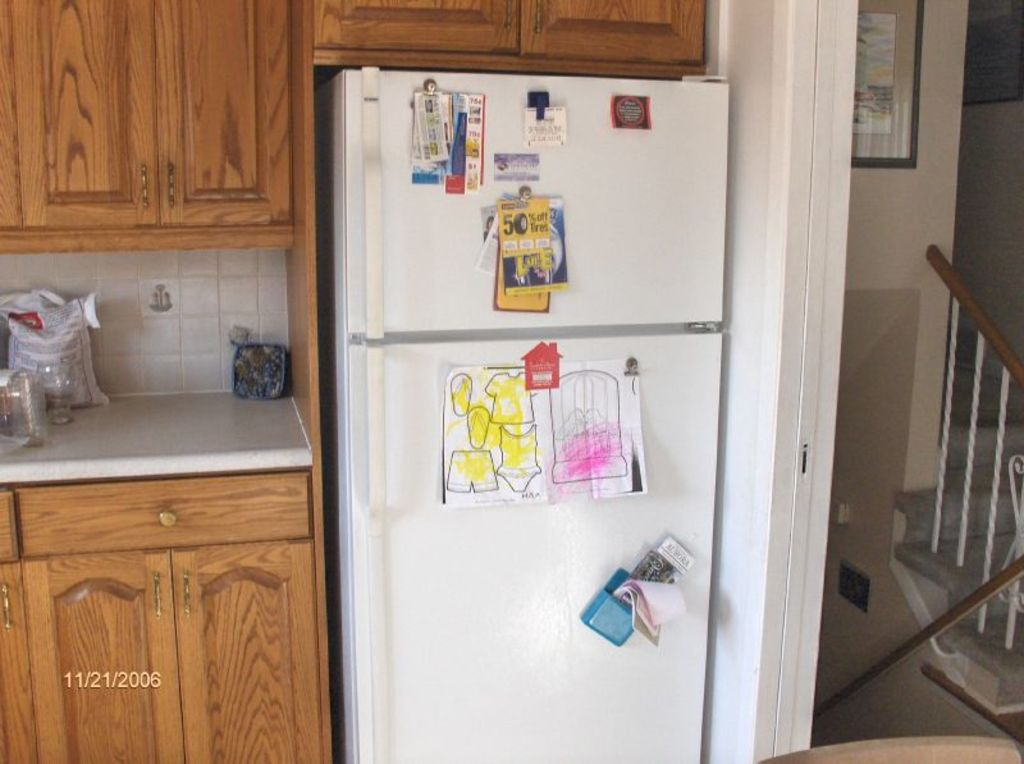cabinet door: (18, 7, 158, 225), (161, 4, 292, 227), (180, 562, 307, 764), (54, 557, 171, 764), (27, 478, 305, 540), (321, 0, 510, 58), (537, 3, 701, 66)
handle: (358, 347, 395, 748), (351, 71, 394, 348), (145, 565, 167, 625), (0, 576, 19, 638), (162, 161, 183, 214), (180, 572, 198, 627), (138, 163, 154, 211), (155, 506, 178, 533)
refrigerator door: (362, 347, 708, 764), (347, 76, 721, 320)
